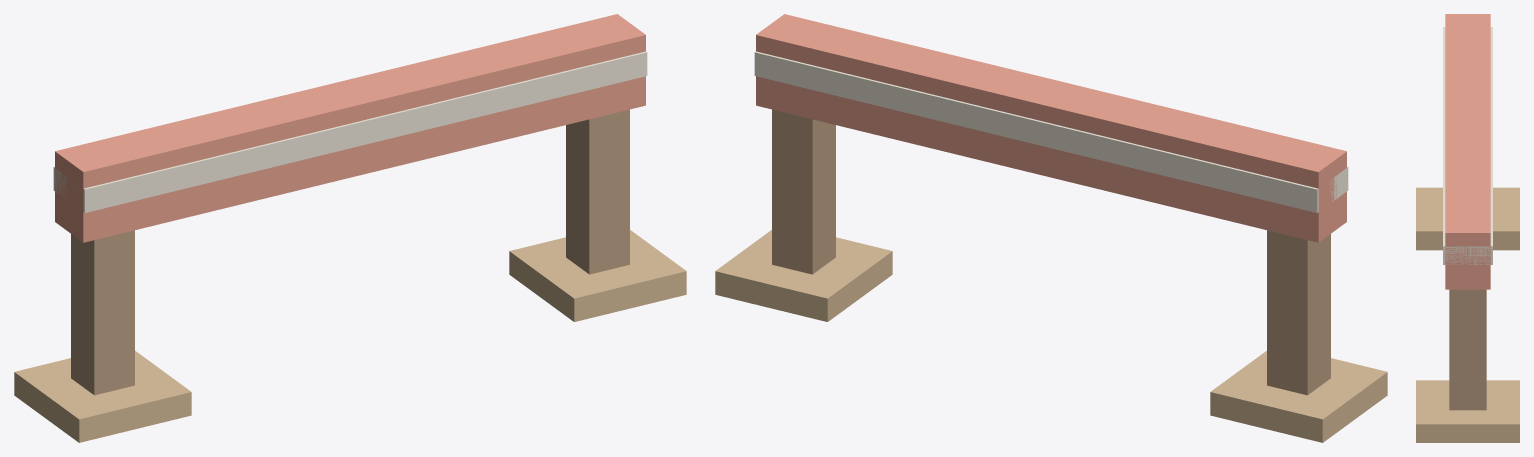
The model's file is hurdle.glb.
The picture shows the model from 3 angles, left to right: view 1: azimuth 30°, elevation 25°; view 2: azimuth 150°, elevation 25°; view 3: azimuth 270°, elevation 25°; orthographic projection. The views are drawn at different scales.
Parts seen in each view (by area): view 1: hurdle; view 2: hurdle; view 3: hurdle.
Boxes of the visible parts, x1,y1,x2,y2 form: hurdle: (14, 14, 686, 442); hurdle: (715, 14, 1387, 442); hurdle: (1416, 14, 1519, 442).
Size of the model in its own units: 2.7 by 1.07 by 0.5.
